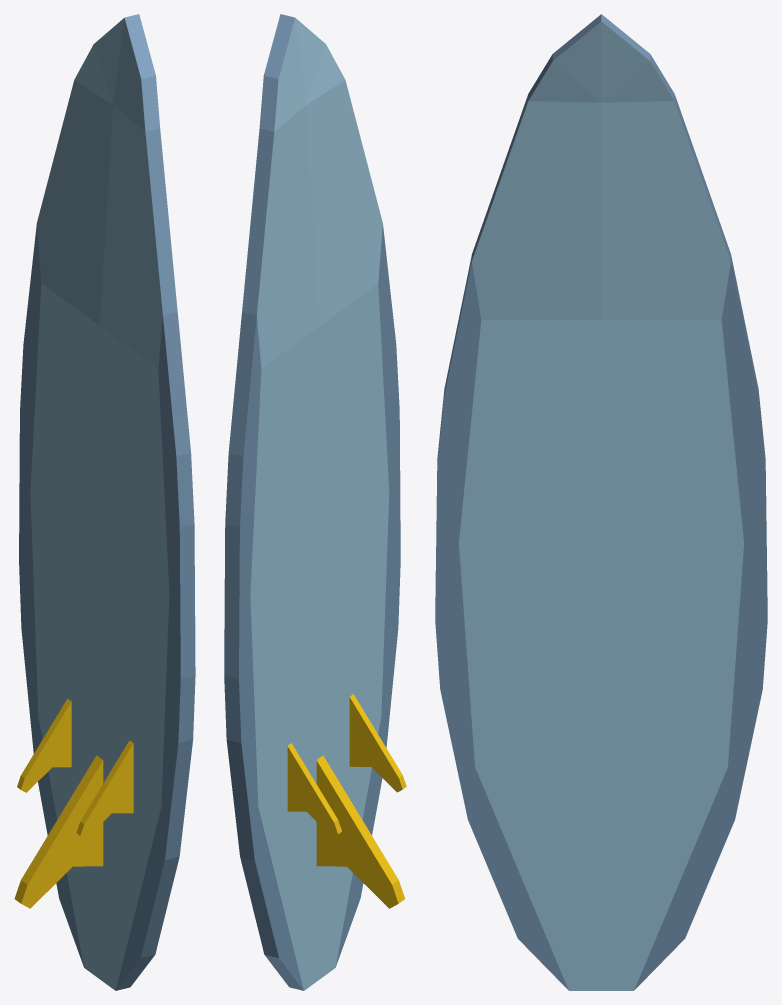
The model's file is SurfBoard_01.glb.
The picture shows the model from 3 angles, left to right: view 1: azimuth 30°, elevation 25°; view 2: azimuth 150°, elevation 25°; view 3: azimuth 270°, elevation 25°; orthographic projection. The views are drawn at different scales.
Visible parts, largest first — view 1: SurfBoard_01; view 2: SurfBoard_01; view 3: SurfBoard_01.
Part boxes in pixels (x1=…): SurfBoard_01: x1=14, y1=14, x2=195, y2=990; SurfBoard_01: x1=224, y1=14, x2=406, y2=990; SurfBoard_01: x1=435, y1=14, x2=767, y2=990.
Size of what is drawn, in the model's own units: 0.3728 by 2.8 by 0.8599.
1 material, 1 textured.
